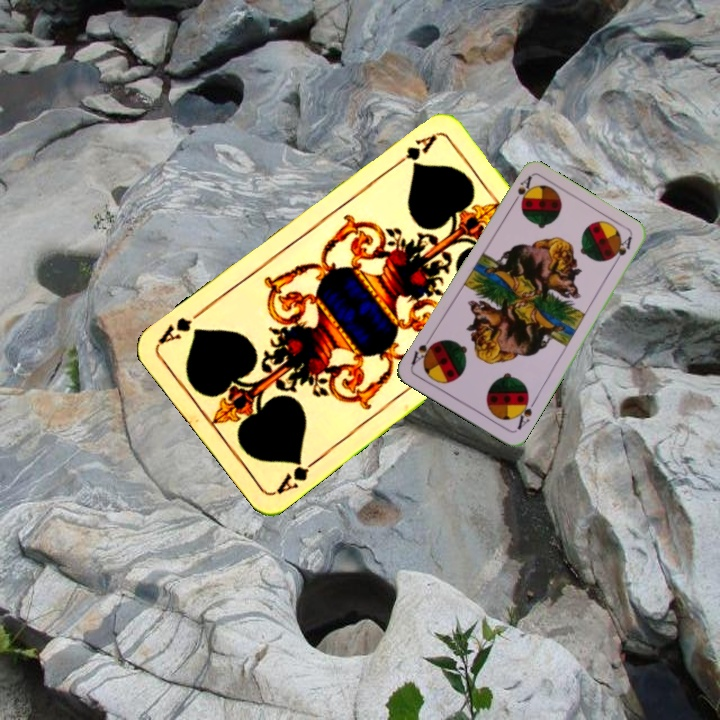GA: (272, 453, 322, 498), (388, 130, 440, 172)
SA: (511, 393, 538, 432), (507, 172, 535, 209)
